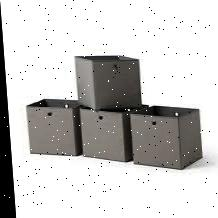cube: (125, 106, 201, 169), (73, 55, 142, 110), (23, 99, 81, 156)
